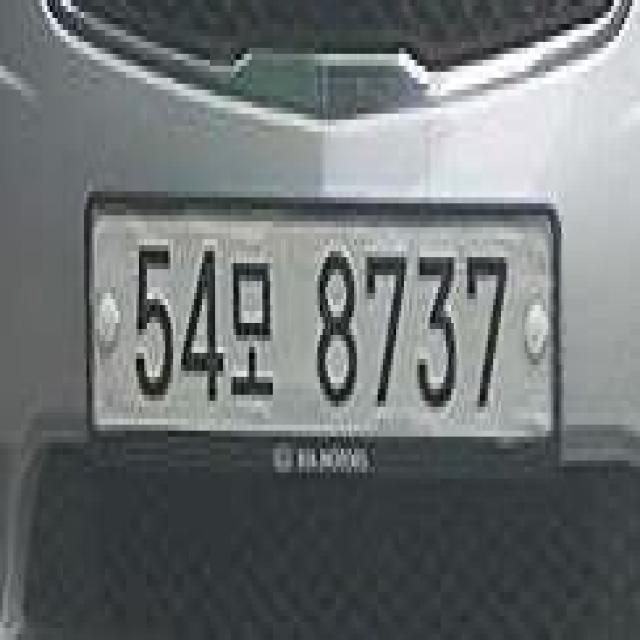3: (414, 236, 460, 412)
4: (183, 234, 229, 406)
5: (130, 234, 180, 406)
7: (464, 238, 512, 410), (363, 232, 411, 402)
8: (310, 234, 360, 408)
license_plate: (79, 180, 566, 492)
mo: (230, 235, 278, 401)
